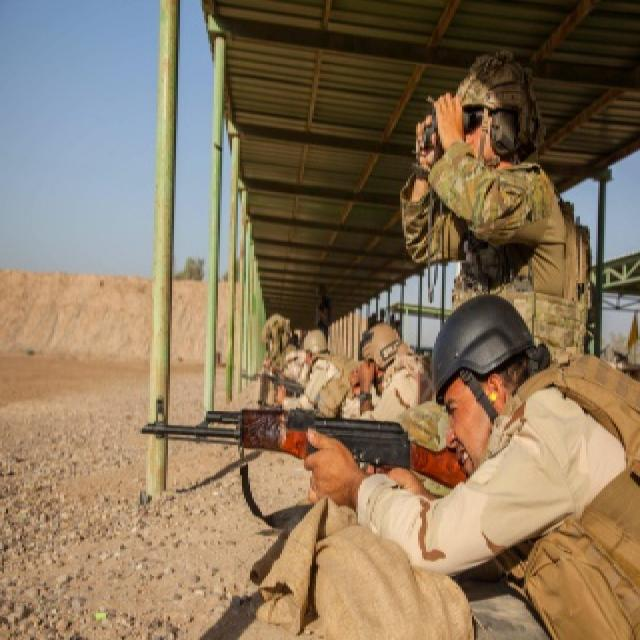rifle: (131, 397, 465, 501)
